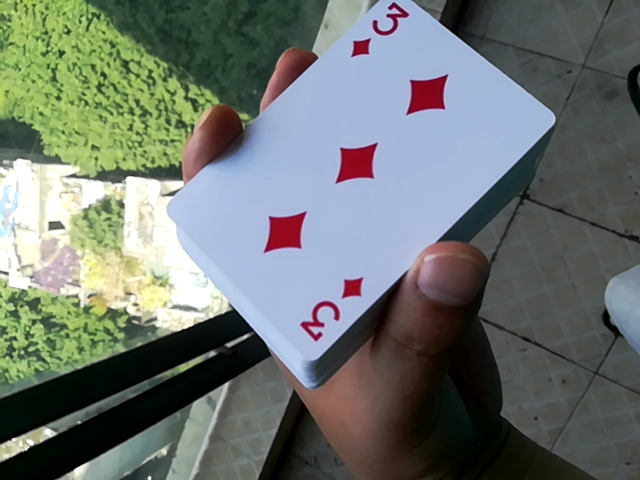fk 3: (159, 2, 534, 373)
